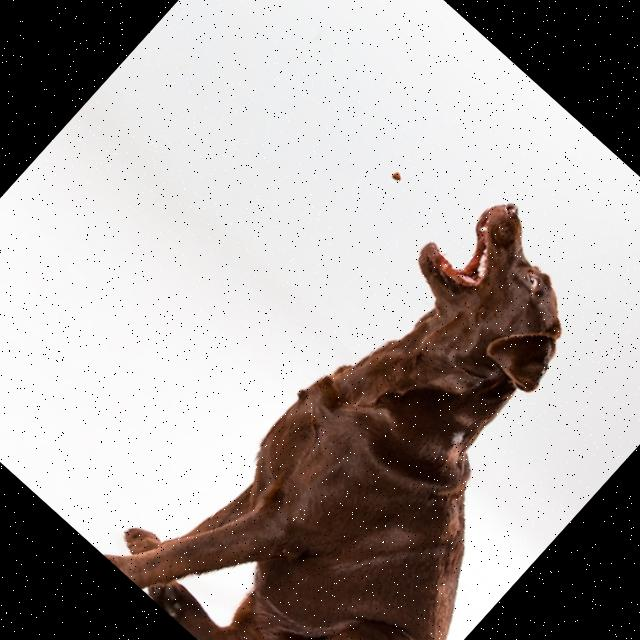Dog: (91, 144, 640, 640)
